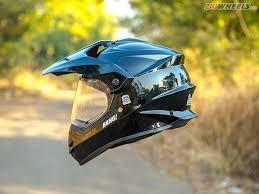helmet: (44, 28, 249, 160)
